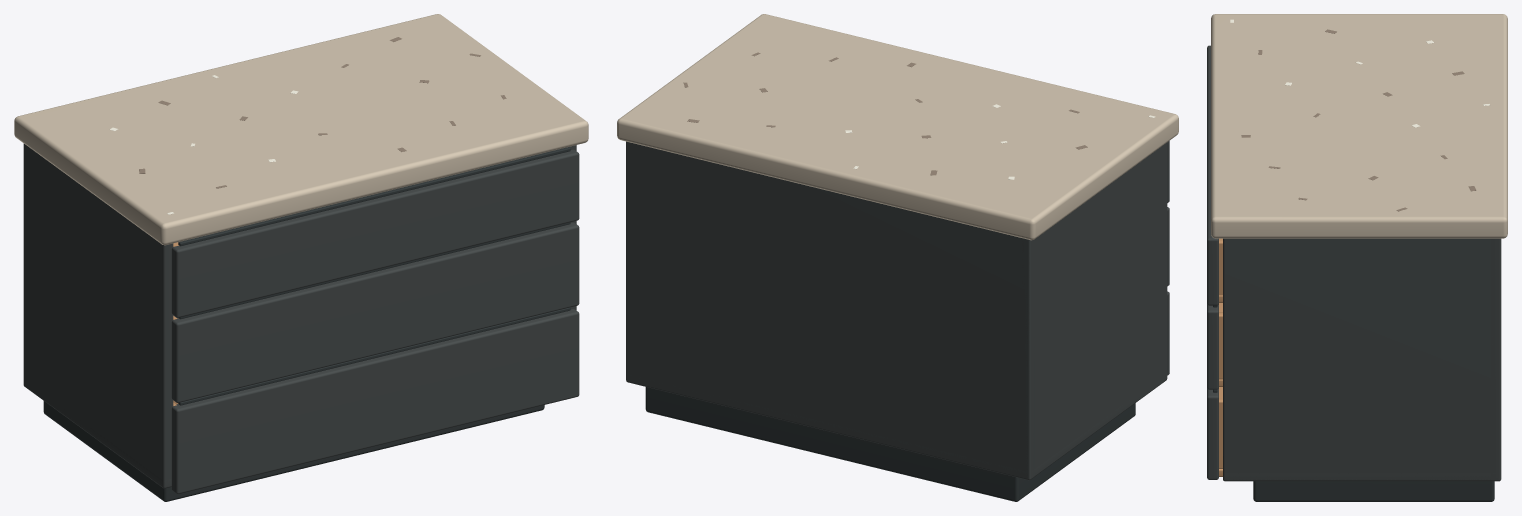
The model's file is kitchenModernCounterCharcoal.glb.
The picture shows the model from 3 angles, left to right: view 1: azimuth 30°, elevation 25°; view 2: azimuth 150°, elevation 25°; view 3: azimuth 270°, elevation 25°; orthographic projection. The views are drawn at different scales.
Parts seen in each view (by area): view 1: Thick stone worktop, Handleless kitchen drawer.002, Storage inner side, Handleless kitchen drawer.001, Handleless kitchen drawer, Recessed kitchen plinth, Recessed drawer pull, Recessed drawer pull.002, Recessed drawer pull.001, Storage inner floor; view 2: Storage inner back, Thick stone worktop, Storage inner side, Recessed kitchen plinth, Storage inner floor; view 3: Storage inner side.001, Thick stone worktop, Recessed kitchen plinth, Storage inner back, Storage inner floor, Handleless kitchen drawer, Handleless kitchen drawer.002, Handleless kitchen drawer.001.
Part boxes in pixels (left/top/right/bottom): Thick stone worktop: left=14, top=14, right=588, bottom=245; Handleless kitchen drawer.002: left=171, top=309, right=579, bottom=494; Storage inner side: left=23, top=143, right=173, bottom=488; Handleless kitchen drawer.001: left=171, top=222, right=579, bottom=402; Handleless kitchen drawer: left=171, top=149, right=579, bottom=317; Recessed kitchen plinth: left=43, top=401, right=544, bottom=501; Recessed drawer pull: left=178, top=147, right=570, bottom=246; Recessed drawer pull.002: left=178, top=307, right=570, bottom=405; Recessed drawer pull.001: left=179, top=222, right=570, bottom=319; Storage inner floor: left=38, top=389, right=178, bottom=488; Storage inner back: left=626, top=142, right=1034, bottom=480; Thick stone worktop: left=617, top=14, right=1178, bottom=240; Storage inner side: left=1023, top=142, right=1167, bottom=479; Recessed kitchen plinth: left=645, top=387, right=1135, bottom=501; Storage inner floor: left=708, top=378, right=1166, bottom=478; Storage inner side.001: left=1223, top=238, right=1501, bottom=481; Thick stone worktop: left=1211, top=14, right=1507, bottom=238; Recessed kitchen plinth: left=1253, top=481, right=1494, bottom=501; Storage inner back: left=1491, top=238, right=1501, bottom=480; Storage inner floor: left=1224, top=473, right=1497, bottom=481; Handleless kitchen drawer: left=1207, top=45, right=1218, bottom=305; Handleless kitchen drawer.002: left=1207, top=388, right=1218, bottom=479; Handleless kitchen drawer.001: left=1207, top=304, right=1218, bottom=389.
Bounding box in the file's own units: 1.84 × 1.23 × 1.13.
